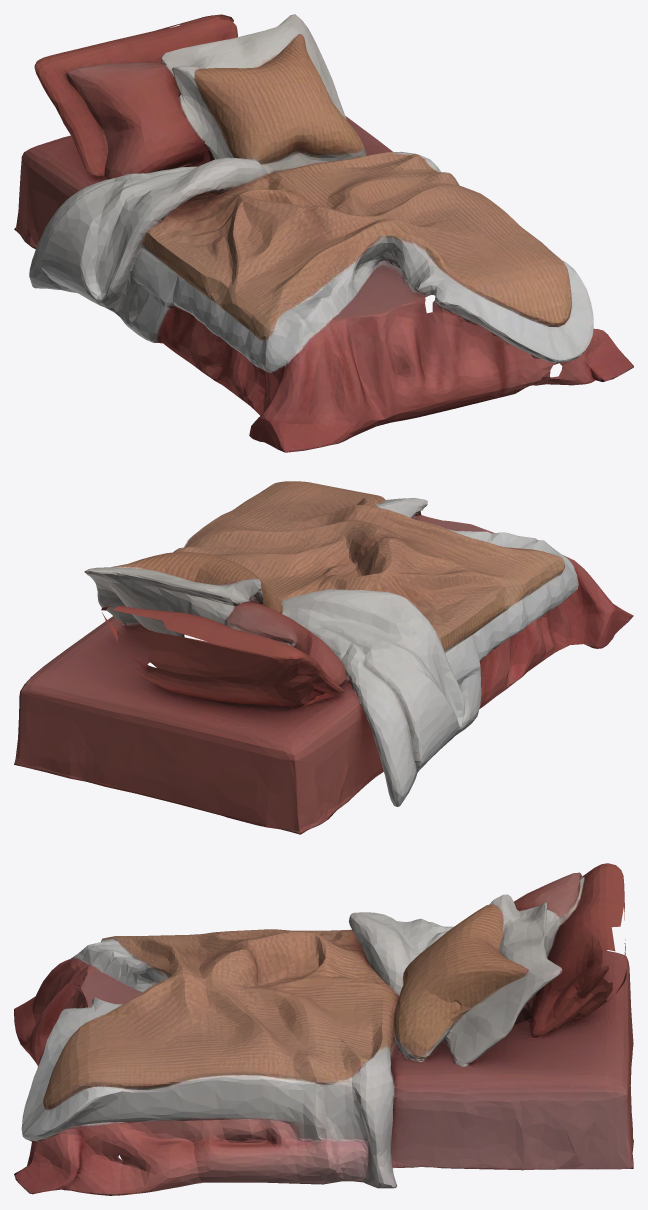
The model's file is 627a9b29-efaf-4ca4-805e-a4e12e6a67ea.glb.
The picture shows the model from 3 angles, top to bottom: view 1: azimuth 30°, elevation 25°; view 2: azimuth 150°, elevation 25°; view 3: azimuth 270°, elevation 25°; orthographic projection.
Visible parts, largest first — view 1: world; view 2: world; view 3: world.
Boxes of the visible parts, x1,y1,x2,y2 form: world: (14,14,633,452); world: (14,481,633,834); world: (14,863,633,1195).
Bounding box in the file's own units: 0.7104 × 0.3466 × 0.9996.
1 material, 1 textured.
